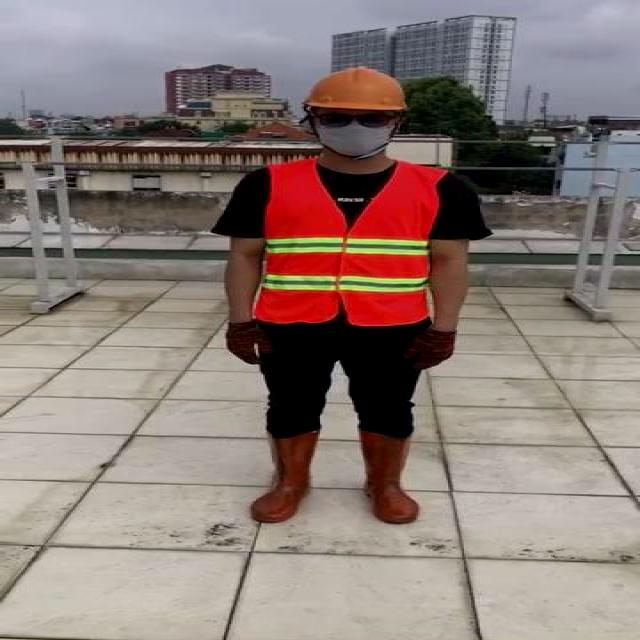boots: (359, 429, 425, 525), (250, 430, 316, 523)
face_mask: (312, 106, 401, 156)
glasses: (312, 110, 399, 130)
hand_glove: (403, 326, 457, 370), (226, 324, 272, 365)
head_helmet: (305, 64, 411, 112)
person: (210, 66, 489, 535)
vest: (258, 158, 442, 326)
